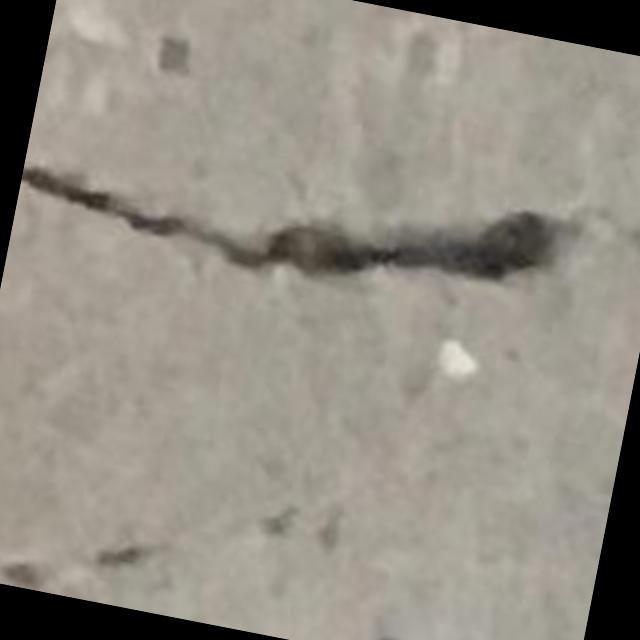crack: (21, 167, 556, 280)
